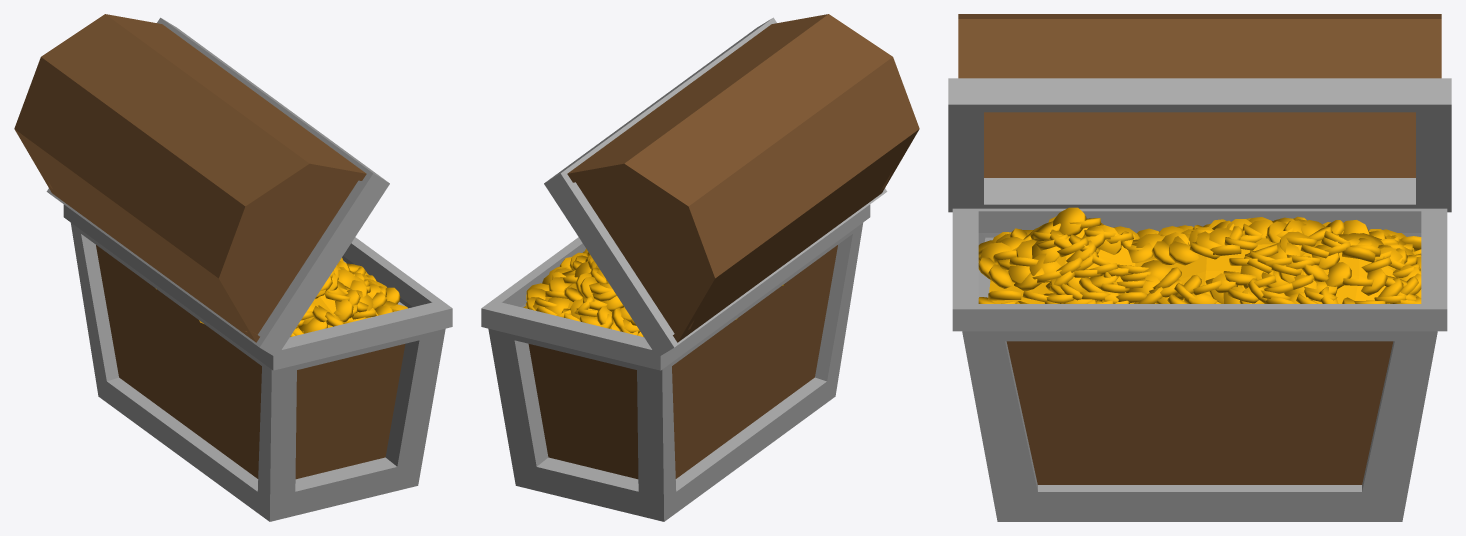
The model's file is Treasure.fbx.
The picture shows the model from 3 angles, left to right: view 1: azimuth 30°, elevation 25°; view 2: azimuth 150°, elevation 25°; view 3: azimuth 270°, elevation 25°; orthographic projection. The views are drawn at different scales.
Parts seen in each view (by area): view 1: Cylinder, Cube.003, Cube.002, Cube.001; view 2: Cylinder, Cube.003, Cube.002, Cube.001; view 3: Cube.003, Cylinder, Cube.001, Cube.002, Cube.004, Cube.004|Cylinder.001|Dupli|32.
Boxes of the visible parts, box(x1,y1,x2,y2) form: Cylinder: box(14, 14, 366, 342); Cube.003: box(71, 223, 445, 521); Cube.002: box(63, 204, 452, 370); Cube.001: box(46, 17, 389, 357); Cylinder: box(567, 14, 919, 342); Cube.003: box(488, 223, 862, 521); Cube.002: box(481, 204, 870, 370); Cube.001: box(544, 17, 887, 357); Cube.003: box(962, 233, 1437, 521); Cylinder: box(958, 14, 1441, 177); Cube.001: box(948, 78, 1451, 212); Cube.002: box(952, 208, 1447, 331); Cube.004: box(989, 227, 1414, 303); Cube.004|Cylinder.001|Dupli|32: box(1053, 207, 1086, 236).
Size of the model in its own units: 131 by 197 by 208.
